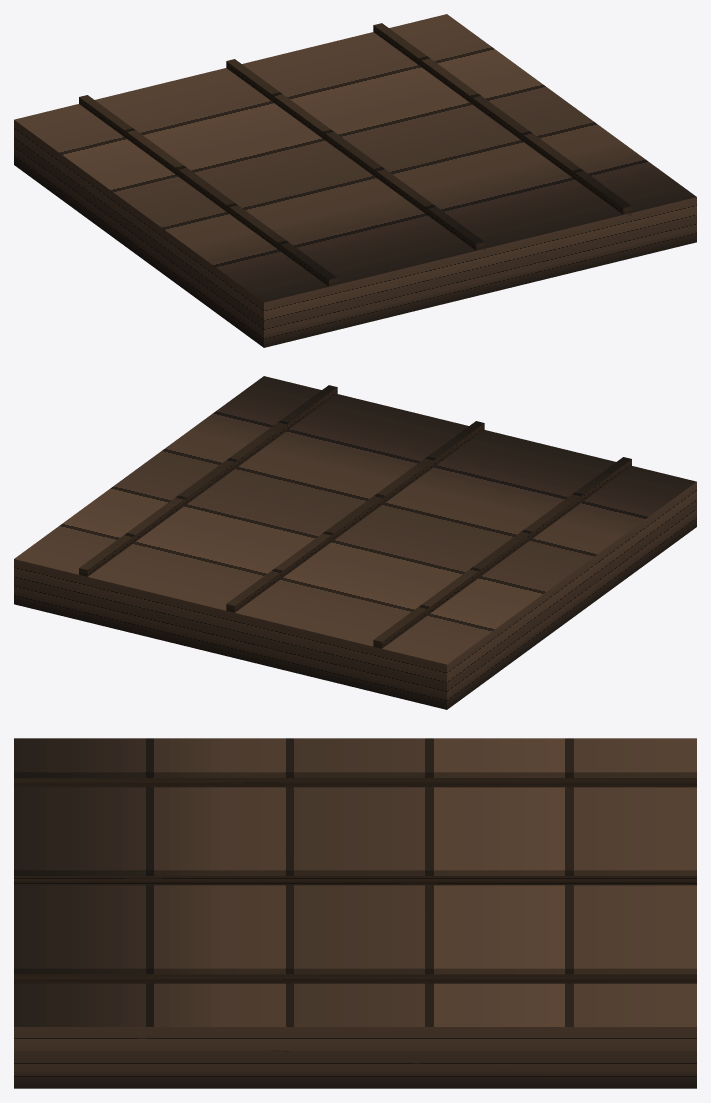
Rendered from floor.gltf.
The picture shows the model from 3 angles, top to bottom: view 1: azimuth 30°, elevation 25°; view 2: azimuth 150°, elevation 25°; view 3: azimuth 270°, elevation 25°; orthographic projection. The views are drawn at different scales.
Visible parts, largest first — view 1: floor; view 2: floor; view 3: floor.
Part boxes in pixels (left/top/right/bottom): floor: left=14, top=14, right=696, bottom=347; floor: left=14, top=376, right=696, bottom=709; floor: left=14, top=738, right=696, bottom=1088.
Size of the model in its own units: 1 by 0.115 by 1.
Materials: 1 (1 with a texture image).
